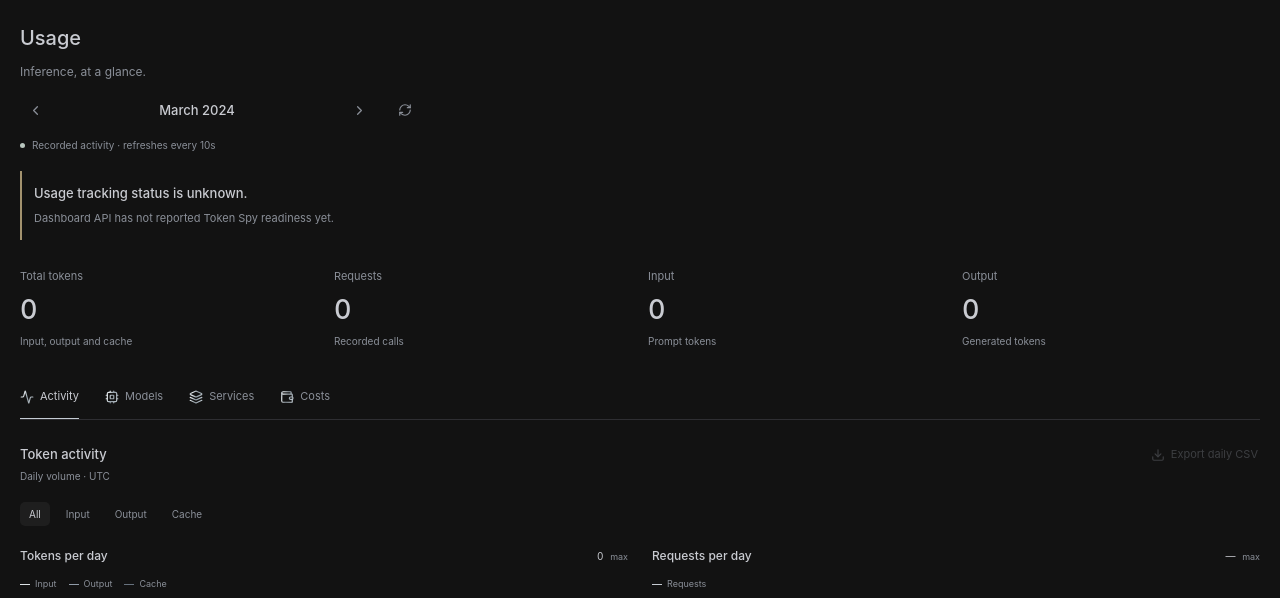
navigates the leap-year boundary using UTC months
Click the button named "Previous month". click: {"x": 35, "y": 110}
box: [20,95,50,125]
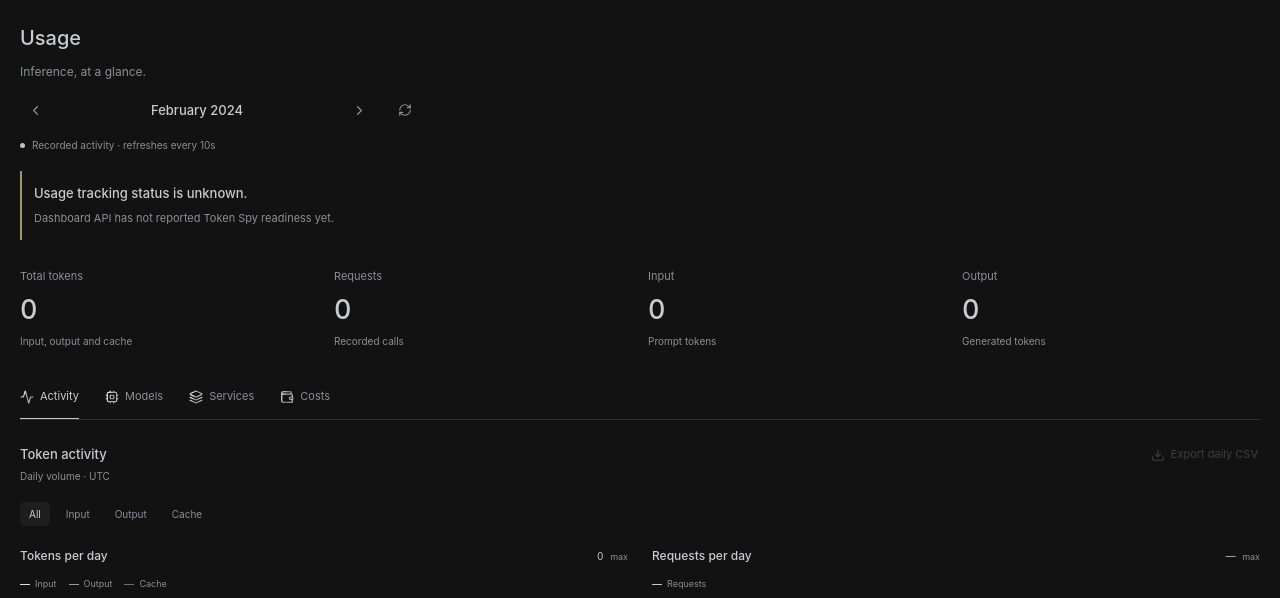
Now the text "February 2024" is shown, box [151,102,243,118]
